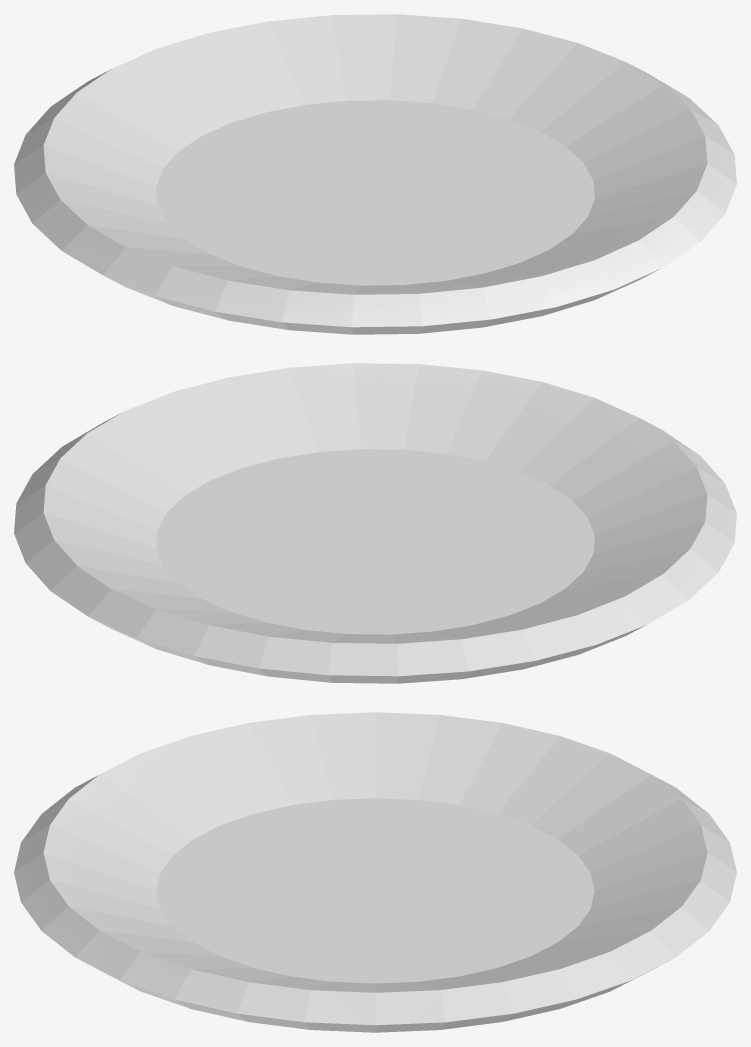
The model's file is Plato_prefab.fbx.
3 renders of one model, top to bottom at view 1: azimuth 30°, elevation 25°; view 2: azimuth 150°, elevation 25°; view 3: azimuth 270°, elevation 25°, orthographic.
Parts seen in each view (by area): view 1: Cylinder.001; view 2: Cylinder.001; view 3: Cylinder.001.
Part boxes in pixels (x1,y1,x2,y2): Cylinder.001: (14, 14, 736, 334); Cylinder.001: (14, 363, 736, 683); Cylinder.001: (14, 712, 736, 1032).
Bounding box in the file's own units: 107 × 15.32 × 107.
1 material, 1 textured.
